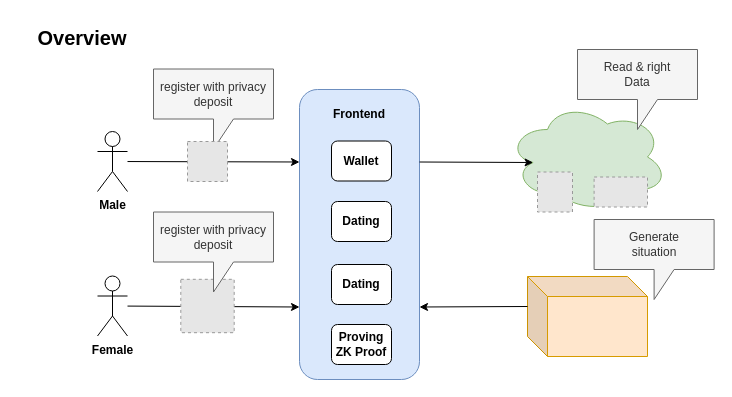
The diagram is 732 pixels wide and 397 high, and some of its shapes have lost their labels. Grey dashed boxes stand in for pictures. The shapes that lost their labels are listed below. From the top down, each one's box as (x1, y1, x2, y2) in pixels, then its label:
(506, 101, 668, 212): Blockchain
(526, 276, 648, 356): World Model
